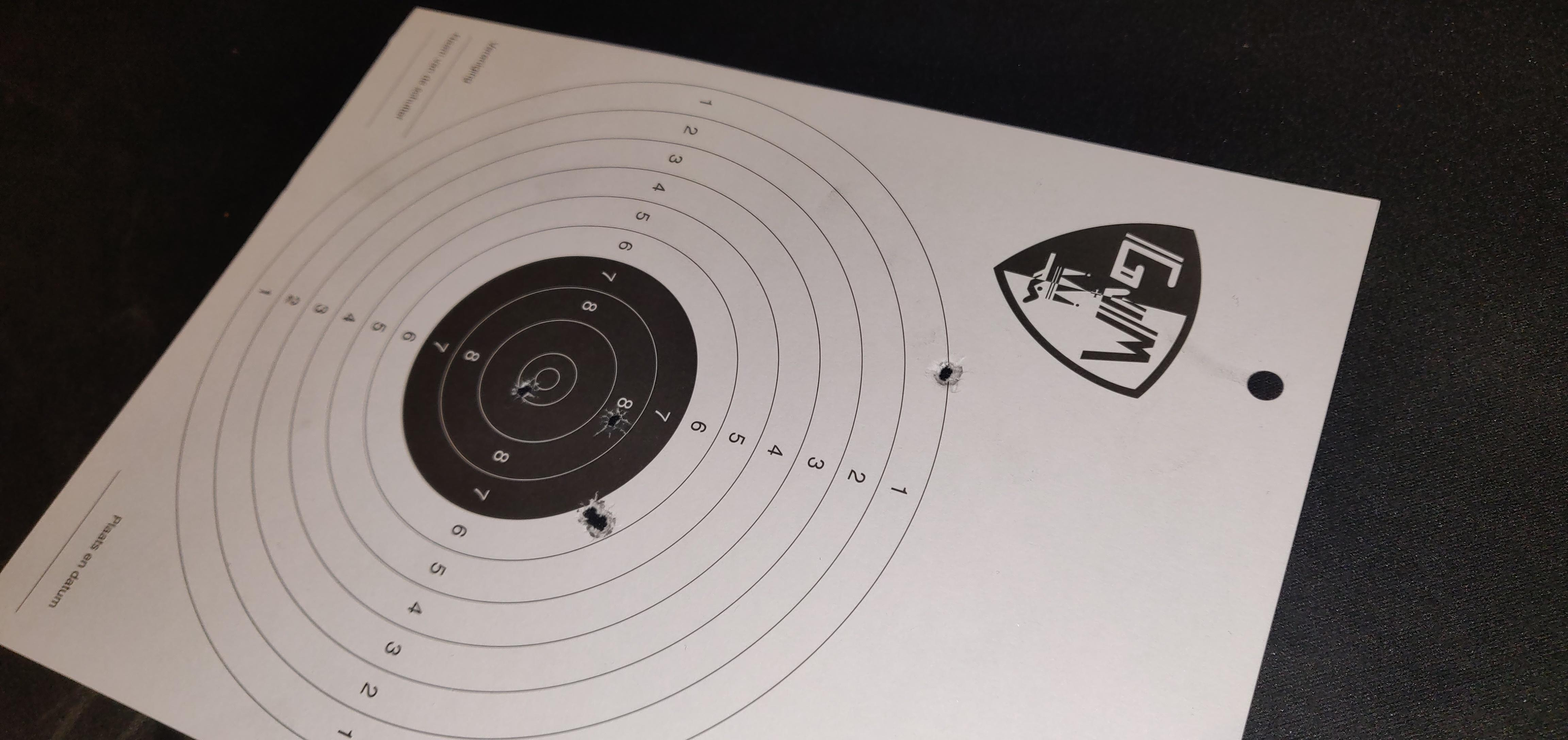hole: (934, 358, 965, 389), (575, 492, 606, 523), (598, 408, 630, 435), (510, 377, 538, 402), (588, 515, 615, 540)
